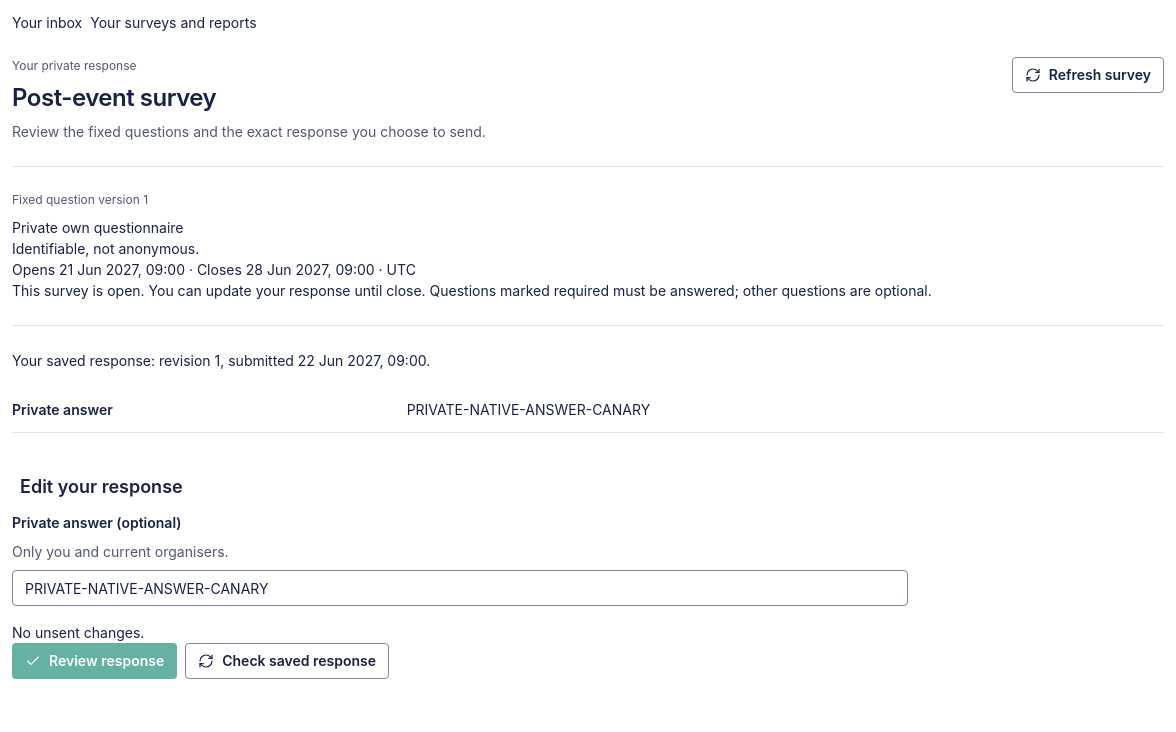
Scenario: a held older private GET cannot restore body or fields after the current owner is denied
Expected: the text "PRIVATE-NATIVE-ANSWER-CANARY" is shown, [407,401,650,418]
Click the button "Refresh survey".
click(1088, 75)  # box [1012,57,1164,93]
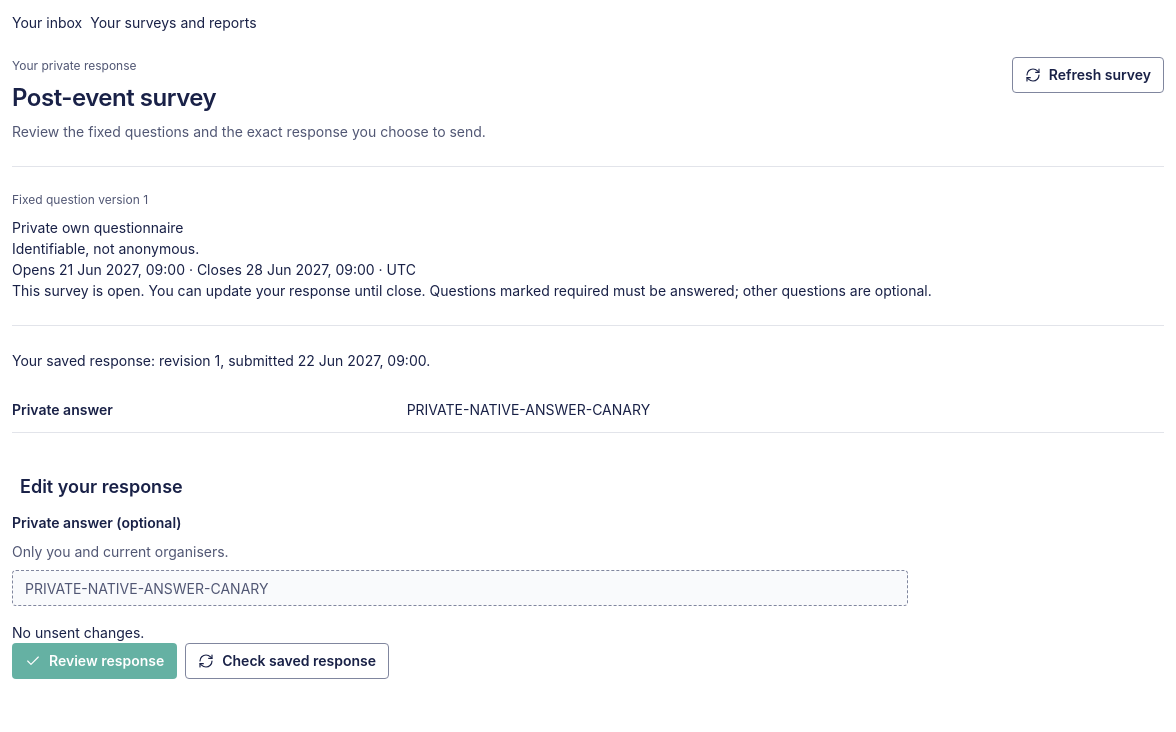
Click the button "Refresh survey".
click(1088, 75)  # box [1012,57,1164,93]
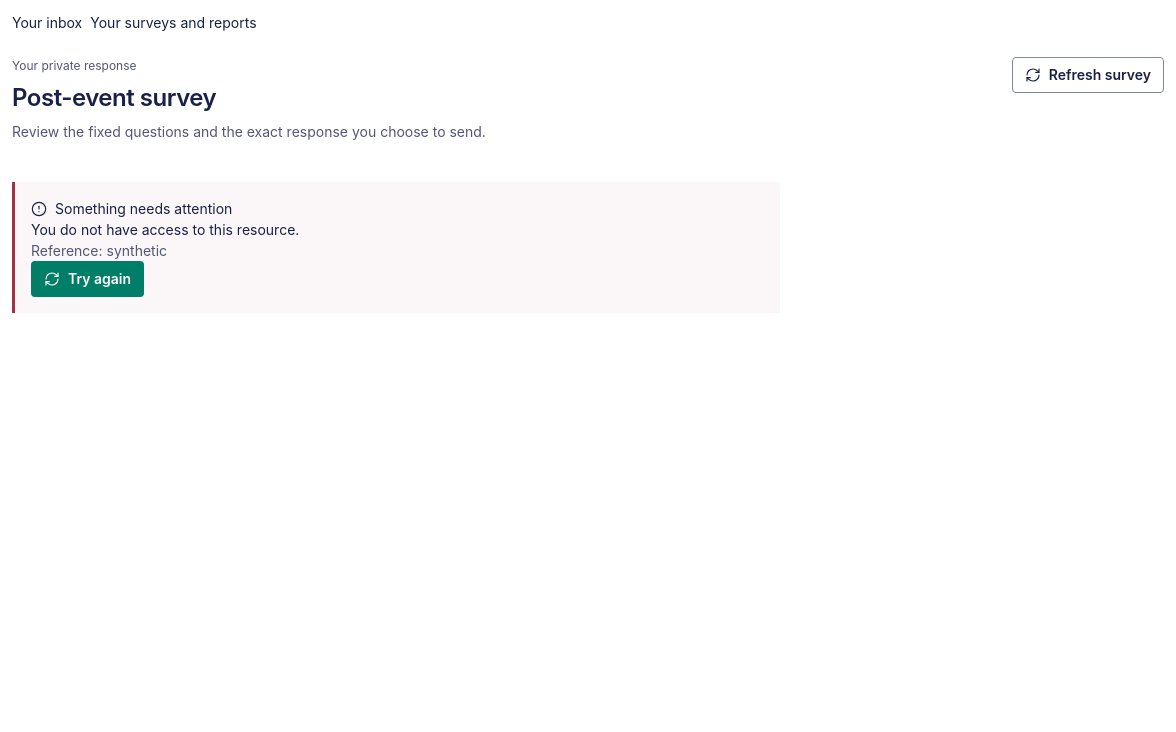
Expected: the text "You do not have access to this resource." is shown, [31,221,299,238]
Expected: the text "PRIVATE-NATIVE-ANSWER-CANARY" is gone
Expected: the label labelled "Private answer (optional)" is gone
